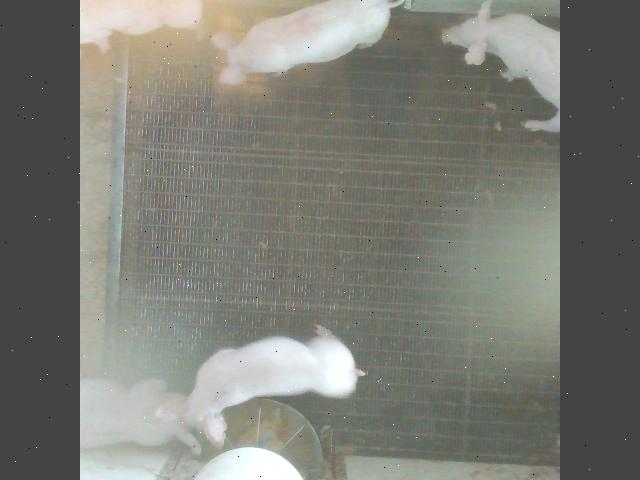pig-4: (212, 0, 404, 84)
